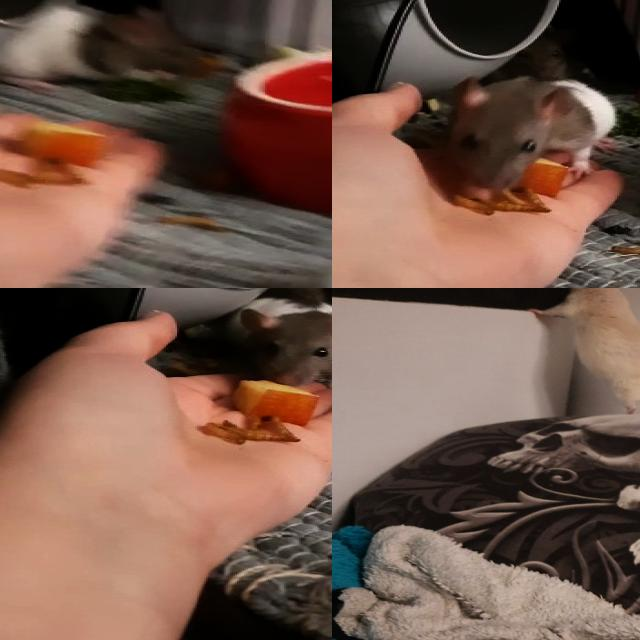rat: (440, 77, 620, 196), (0, 1, 211, 91), (521, 288, 640, 418), (203, 288, 332, 393), (497, 18, 579, 79)
